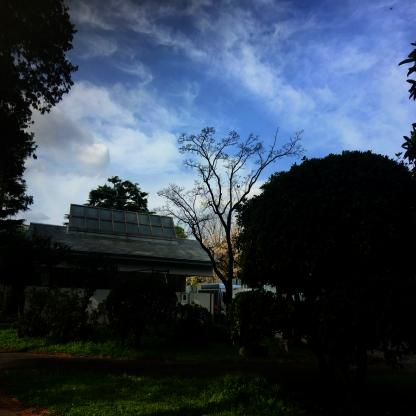Someiyoshino: (185, 219, 257, 286)
